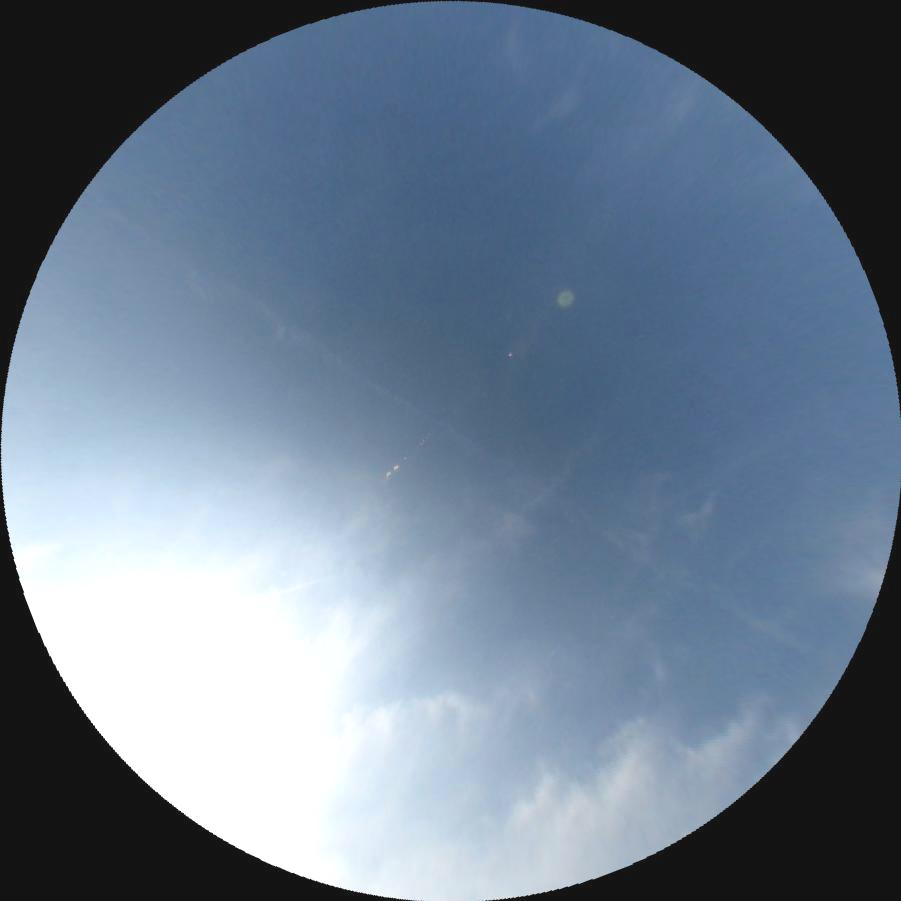contrail old: (202, 269, 845, 681)
parasite: (197, 570, 332, 624)
sun: (27, 554, 318, 840)
